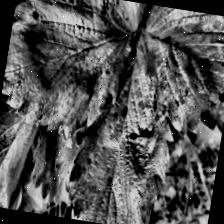Leaf Spot: (59, 26, 191, 224), (0, 0, 142, 143), (128, 4, 224, 139)
